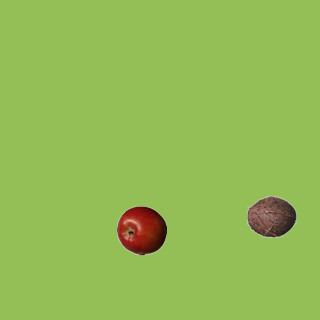Apple Braeburn: (116, 205, 166, 255)
Cocos: (246, 191, 296, 241)
